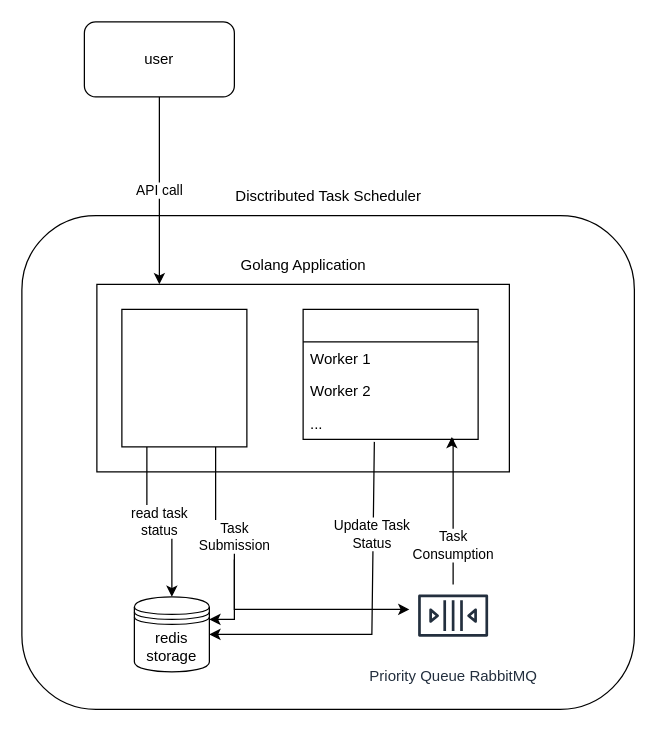
The diagram is 656 pixels wide and 731 high, and some of its shapes have lost their labels. The box of each missing label's shape, as (x1, y1, x2, y2) in pixels:
API Server: (121, 308, 247, 447)
Workers Pool: (302, 308, 478, 439)
